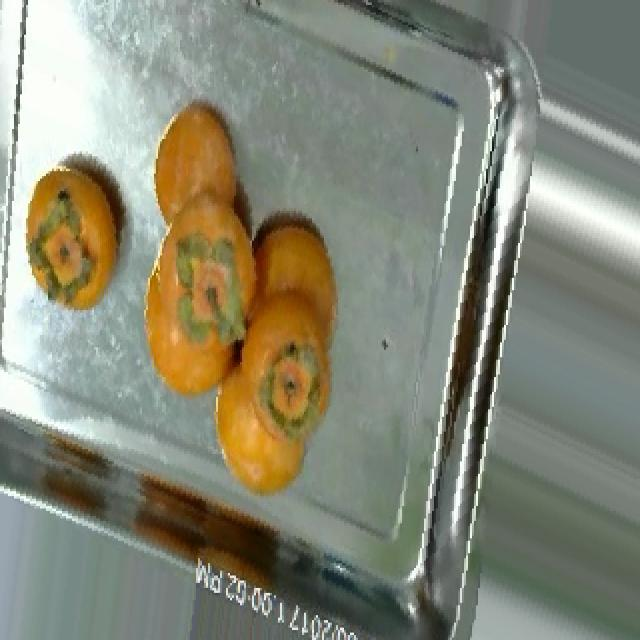Fruit: (194, 317, 350, 524), (134, 82, 282, 290), (126, 223, 256, 414), (22, 134, 142, 332)
